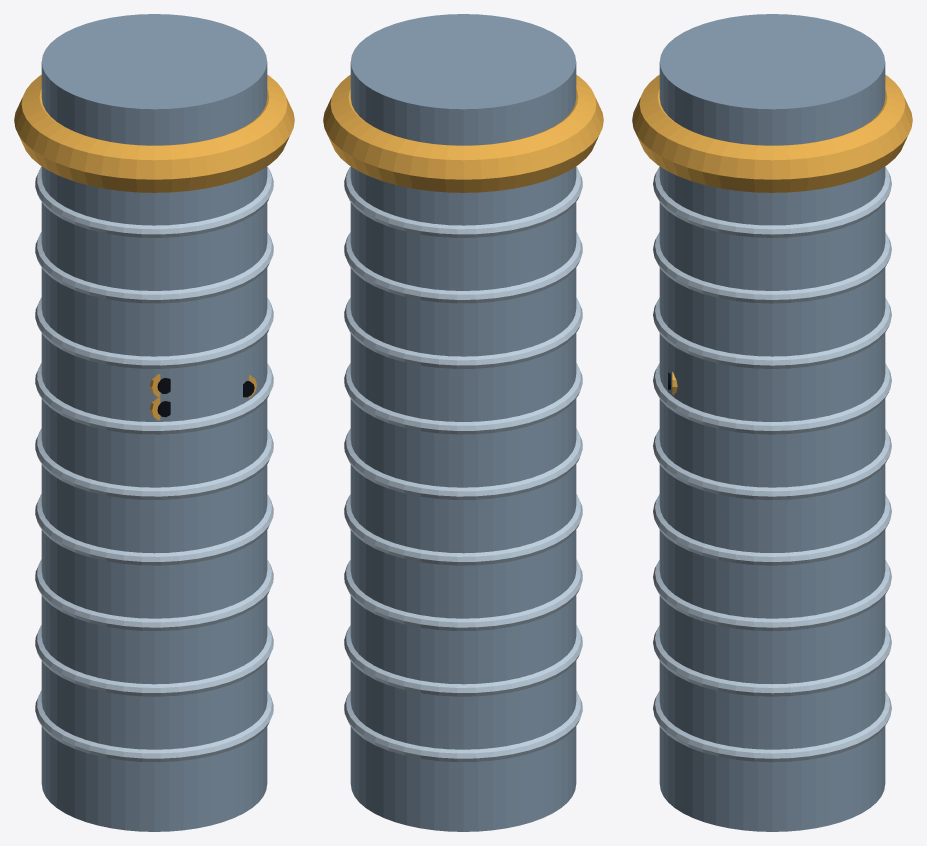
File: 34_L92_RotaryPercussiveCoringDrill.fbx
3 renders of one model, left to right at view 1: azimuth 30°, elevation 25°; view 2: azimuth 150°, elevation 25°; view 3: azimuth 270°, elevation 25°, orthographic.
Visible parts, largest first — view 1: L92_RotaryPercussiveCoringDrill_Part_0000, L92_RotaryPercussiveCoringDrill_Part_0003, L92_RotaryPercussiveCoringDrill_Part_0001; view 2: L92_RotaryPercussiveCoringDrill_Part_0000, L92_RotaryPercussiveCoringDrill_Part_0003, L92_RotaryPercussiveCoringDrill_Part_0001; view 3: L92_RotaryPercussiveCoringDrill_Part_0000, L92_RotaryPercussiveCoringDrill_Part_0003, L92_RotaryPercussiveCoringDrill_Part_0001.
Part boxes in pixels (x1,y1,x2,y2): L92_RotaryPercussiveCoringDrill_Part_0000: (41, 14, 267, 831); L92_RotaryPercussiveCoringDrill_Part_0003: (35, 166, 273, 762); L92_RotaryPercussiveCoringDrill_Part_0001: (14, 75, 294, 192); L92_RotaryPercussiveCoringDrill_Part_0000: (350, 14, 576, 831); L92_RotaryPercussiveCoringDrill_Part_0003: (344, 166, 582, 762); L92_RotaryPercussiveCoringDrill_Part_0001: (323, 75, 603, 192); L92_RotaryPercussiveCoringDrill_Part_0000: (659, 14, 885, 831); L92_RotaryPercussiveCoringDrill_Part_0003: (653, 166, 891, 762); L92_RotaryPercussiveCoringDrill_Part_0001: (632, 75, 912, 192).
Size of the model in its own units: 132 by 375 by 132.
